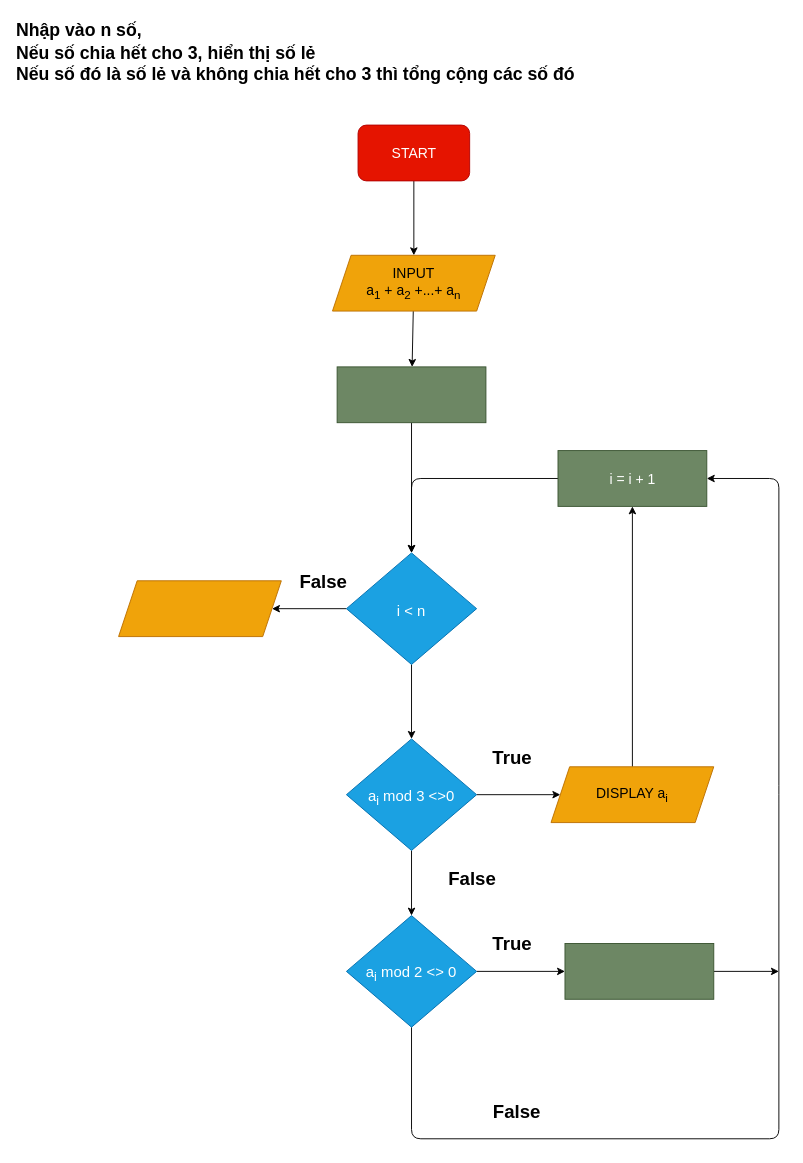
Some shapes in this 803 by 1163 pixel diagram are drawn without their labels. Each missing label, with the box of its shape:
DISPLAY: sum: (118, 580, 281, 637)
i = 0 sum = 0: (336, 366, 486, 423)
sum = sum + a i: (564, 943, 714, 999)
